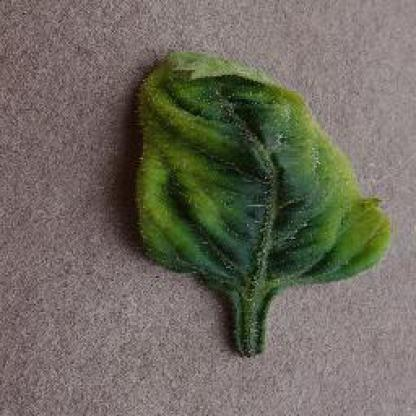bad leaf: (309, 127, 389, 258), (144, 47, 241, 141), (129, 138, 210, 242), (258, 78, 318, 135)
